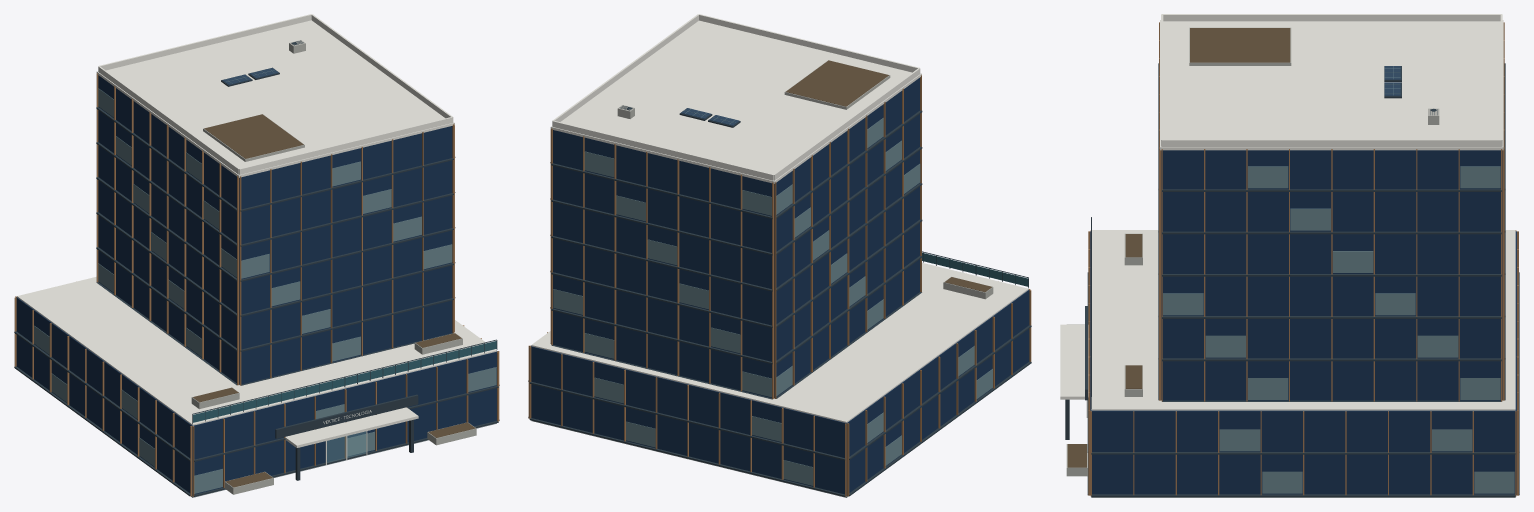
Rendered from Tower_1.fbx.
3 views of the same model, side by side, from view 1: azimuth 30°, elevation 25°; view 2: azimuth 150°, elevation 25°; view 3: azimuth 270°, elevation 25° (orthographic). The views are drawn at different scales.
Visible parts, largest first — view 1: Tower_1.021; view 2: Tower_1.021; view 3: Tower_1.021.
Part boxes in pixels (x1=…): Tower_1.021: x1=14, y1=14, x2=499, y2=497; Tower_1.021: x1=528, y1=14, x2=1031, y2=497; Tower_1.021: x1=1060, y1=14, x2=1519, y2=497.
Size of the model in its own units: 30.55 by 27.47 by 32.48.
